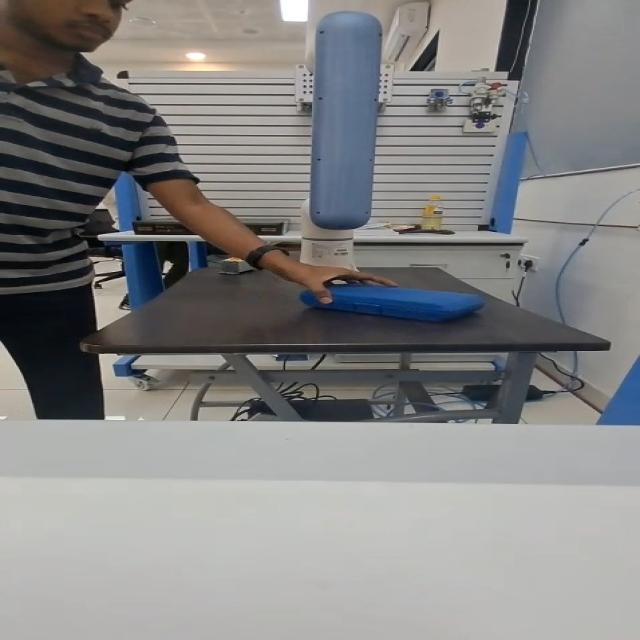top-surface: (341, 285, 464, 303)
